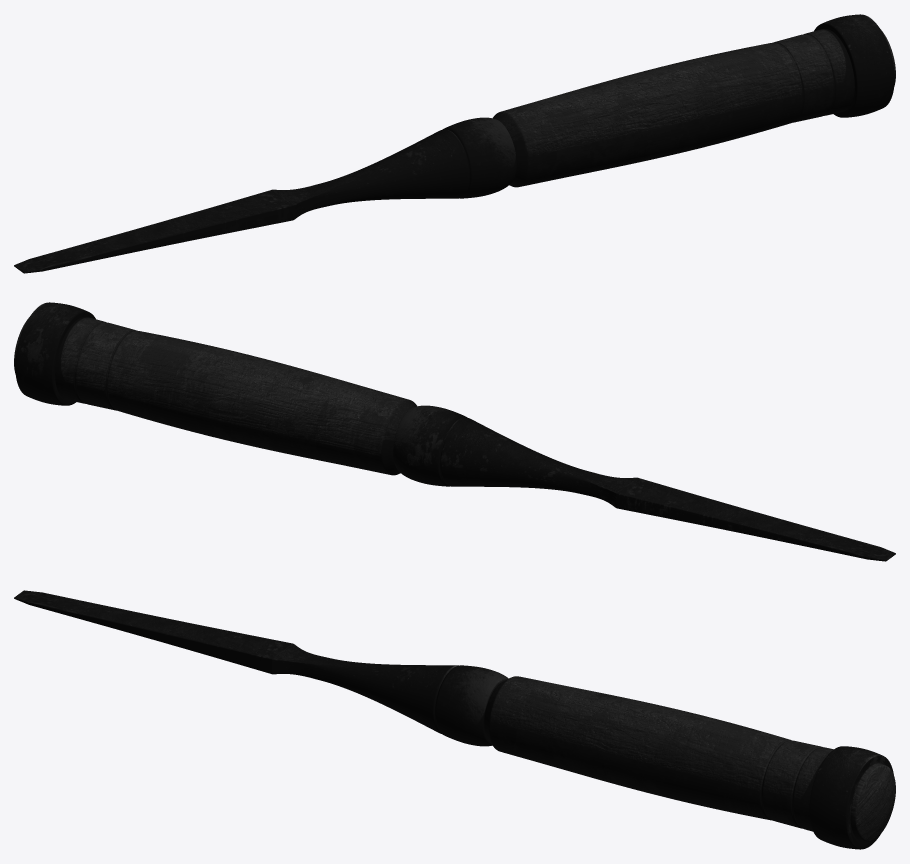
Rendered from chisel.fbx.
3 views of the same model, one above another, from view 1: azimuth 30°, elevation 25°; view 2: azimuth 150°, elevation 25°; view 3: azimuth 330°, elevation 25° (orthographic).
Visible parts, largest first — view 1: Chisel.Body.High, Chisel.Head.High, Chisel.Frame.High; view 2: Chisel.Body.High, Chisel.Head.High, Chisel.Frame.High; view 3: Chisel.Body.High, Chisel.Head.High, Chisel.Frame.High.
Part boxes in pixels (x1=…): Chisel.Body.High: x1=493, y1=29, x2=895, y2=187; Chisel.Head.High: x1=14, y1=117, x2=516, y2=273; Chisel.Frame.High: x1=814, y1=14, x2=894, y2=117; Chisel.Body.High: x1=14, y1=317, x2=416, y2=475; Chisel.Head.High: x1=393, y1=405, x2=895, y2=561; Chisel.Frame.High: x1=15, y1=302, x2=95, y2=405; Chisel.Body.High: x1=484, y1=676, x2=895, y2=841; Chisel.Head.High: x1=14, y1=590, x2=508, y2=746; Chisel.Frame.High: x1=809, y1=746, x2=893, y2=849.
Bounding box in the file's own units: 37.5 × 3.79 × 3.79.
